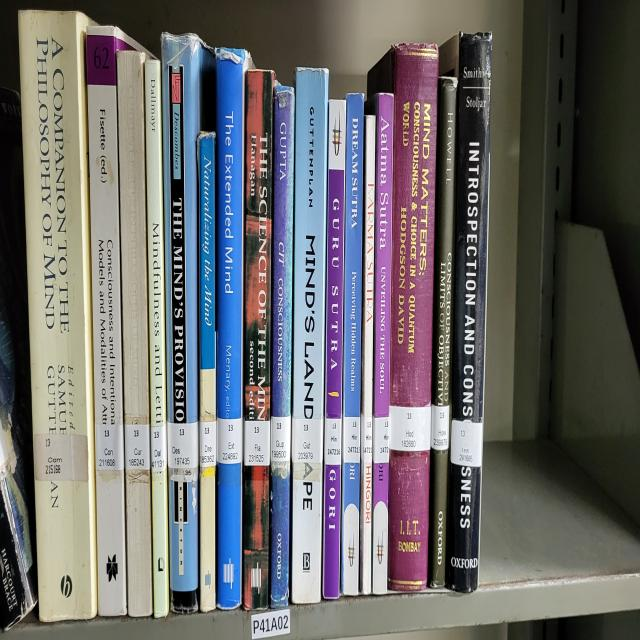Book: (19, 11, 98, 622), (368, 43, 439, 590), (161, 32, 215, 606), (86, 32, 131, 614), (446, 35, 491, 593), (291, 68, 329, 603), (216, 49, 252, 609), (118, 51, 152, 617), (242, 70, 275, 609), (429, 76, 458, 587), (145, 60, 169, 617), (270, 84, 295, 609), (368, 92, 394, 593), (322, 100, 346, 598), (341, 95, 364, 595), (198, 133, 216, 611), (360, 114, 376, 595)
Label: (34, 433, 89, 482), (389, 403, 431, 452), (450, 419, 482, 468), (168, 422, 199, 471), (291, 417, 324, 463), (95, 425, 124, 471), (216, 417, 242, 463), (244, 419, 270, 465), (125, 425, 150, 471), (271, 417, 291, 463), (431, 406, 450, 452), (150, 425, 168, 471), (342, 417, 360, 463), (324, 417, 341, 465), (372, 417, 389, 463), (200, 422, 216, 468)
